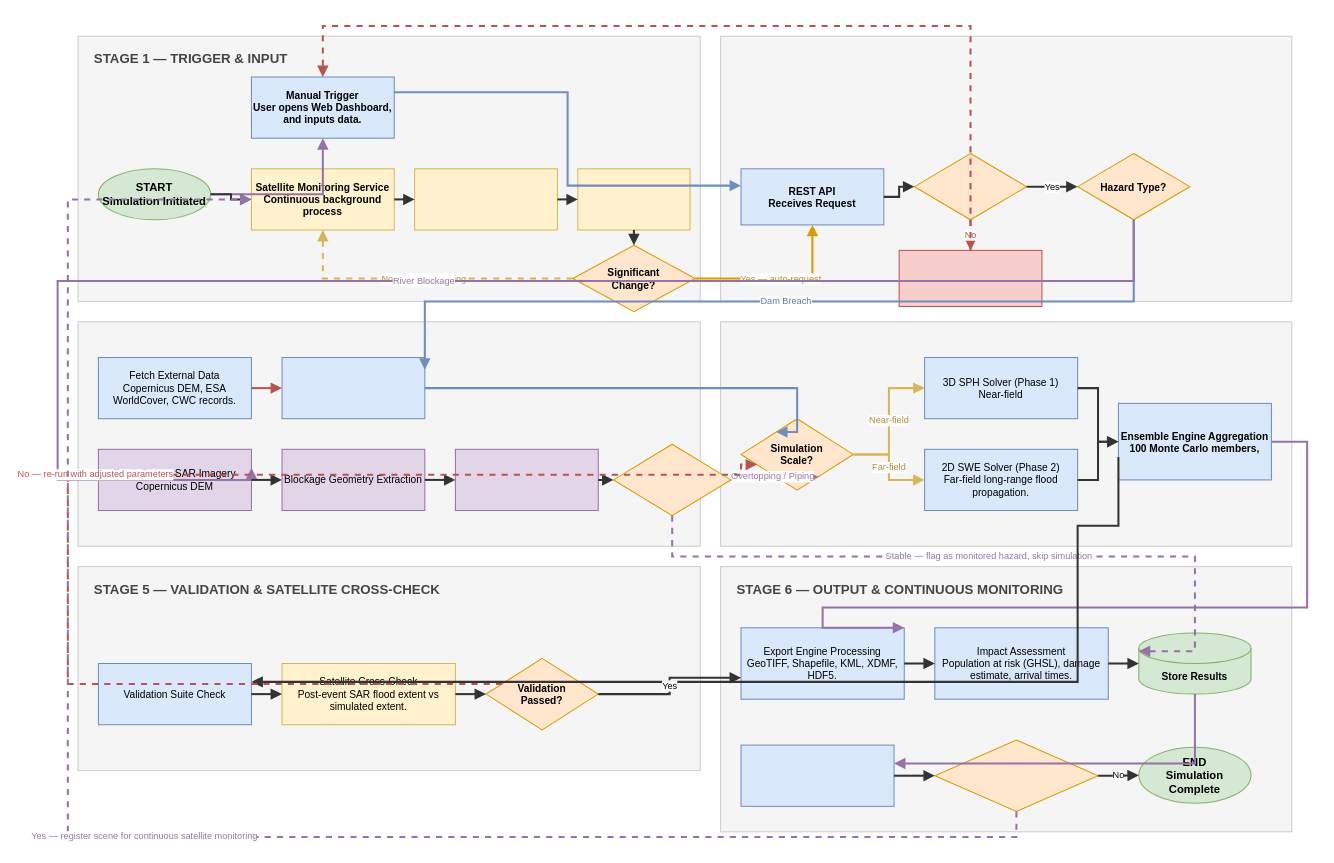
The diagram is 1334 pixels wide and 863 high, and some of its shapes have lost their labels. Here are the shapes that lost their labels. From the top down, the box of each, then its label:
(913, 152, 1027, 220): Input Valid?
(720, 35, 1292, 301): STAGE 2 — VALIDATION & HAZARD CLASSIFICATION
(414, 168, 557, 230): Fetch Imagery Sentinel-1 SAR / Sentinel-2 via Google Earth Engine.
(577, 168, 690, 230): Change Detection Engine Compare current scene against baseline reference.
(898, 249, 1042, 307): Return Error to Dashboard
(281, 356, 425, 419): Breach Regression Analysis Wahl 2004.
(77, 321, 700, 546): STAGE 3 — HAZARD-SPECIFIC MODELING
(720, 321, 1292, 546): STAGE 4 — HYDRAULIC SIMULATION
(454, 448, 598, 511): Impoundment Growth Model
(613, 443, 731, 516): Blockage Failure Mode?
(740, 744, 894, 806): Return to Dashboard
(934, 739, 1098, 811): Continuous Monitoring Enabled?
